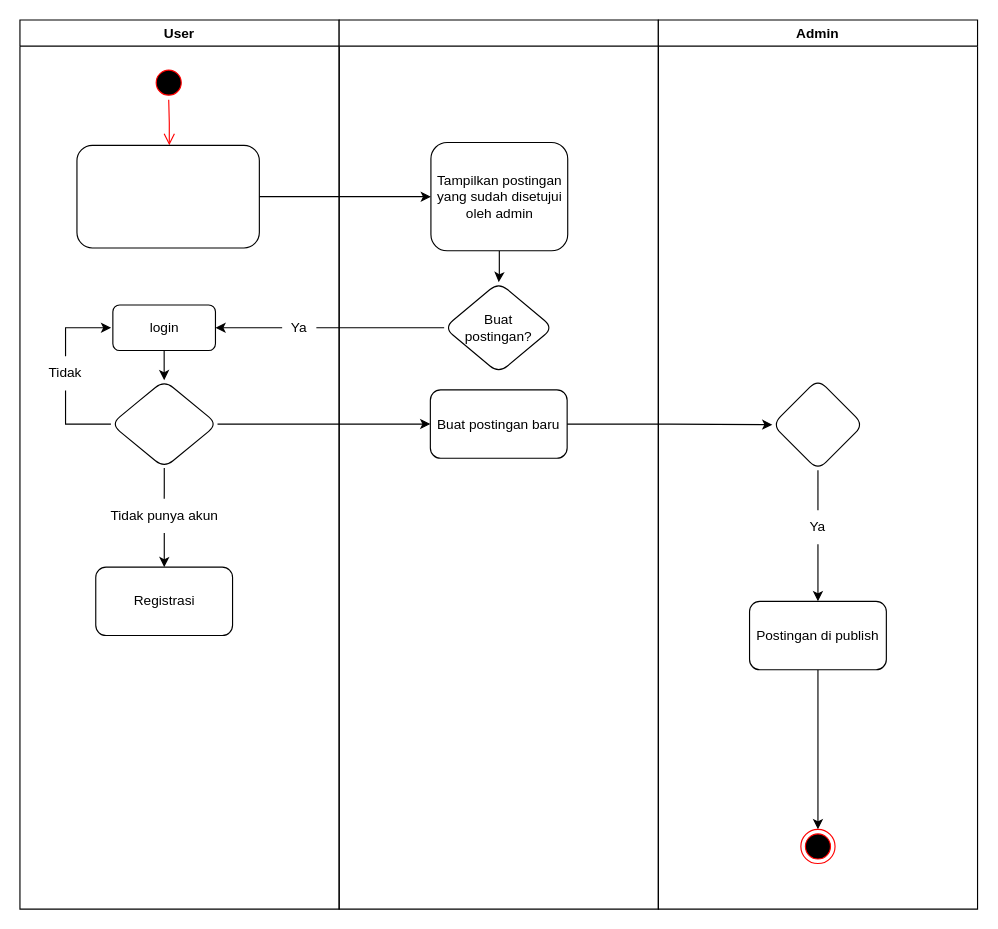
Some shapes in this 998 by 929 pixel diagram are drawn without their labels. The shapes that lost their labels are listed below. From the top down, each one's box as (x1, y1, x2, y2) in pixels, then its label:
(76, 144, 259, 248): Mengakses Website dan menuju halaman blog dengan memilih menu "posts"
(110, 379, 218, 468): Berhasil?
(771, 378, 864, 470): Disetujui
(338, 19, 658, 909): Himatika Blog
